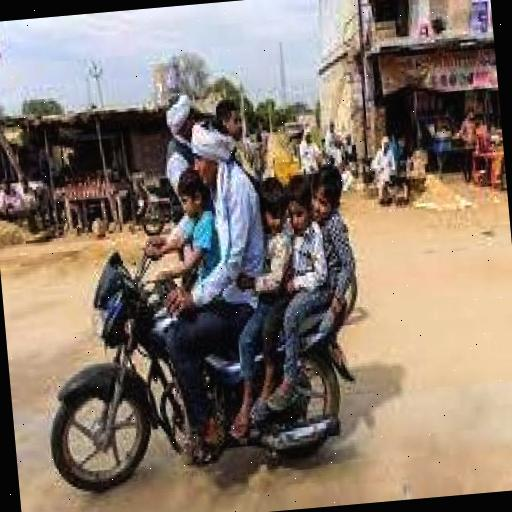no helmet: (170, 100, 246, 214)
triple riding: (49, 80, 406, 512)
